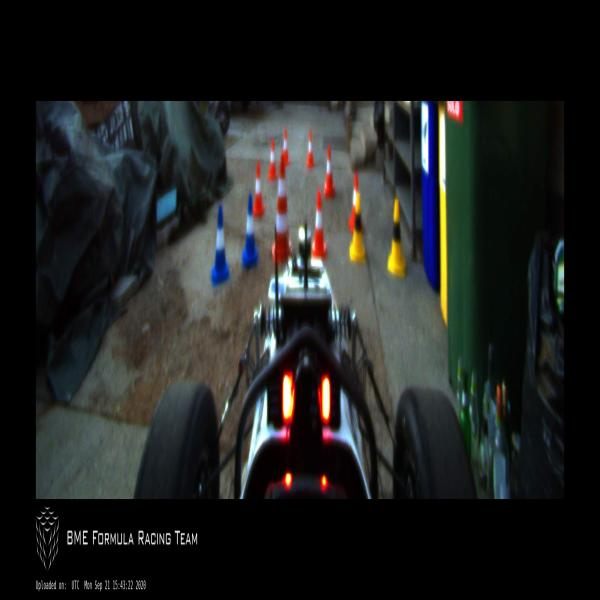blue_cone: (212, 205, 230, 286), (242, 194, 258, 265)
large_orange_cone: (272, 154, 290, 262)
orange_cone: (312, 189, 326, 260), (349, 172, 363, 233), (253, 162, 264, 216), (324, 147, 334, 198), (268, 139, 277, 179), (306, 132, 314, 168), (284, 130, 289, 165)
yellow_cone: (388, 199, 406, 277), (350, 194, 366, 262)
